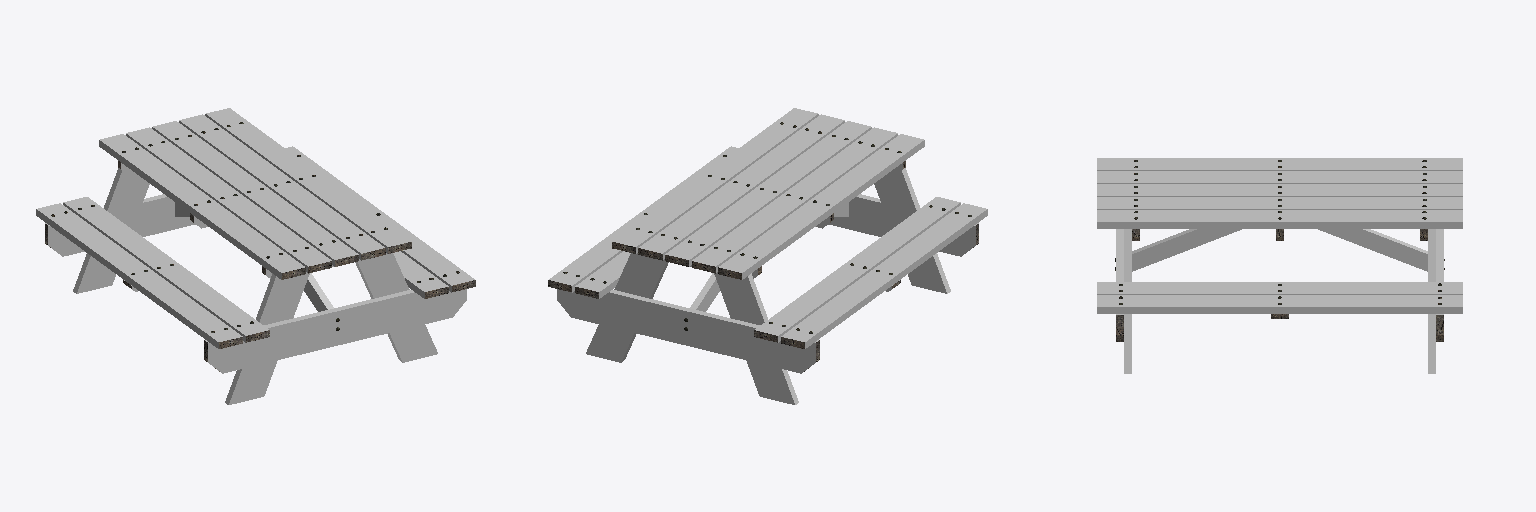
The picture shows the model from 3 angles: view 1: azimuth 30°, elevation 25°; view 2: azimuth 150°, elevation 25°; view 3: azimuth 270°, elevation 25°; orthographic projection.
Visible parts, largest first — view 1: Picnic_Table_picnic_table; view 2: Picnic_Table_picnic_table; view 3: Picnic_Table_picnic_table.
Boxes of the visible parts, x1=… form: Picnic_Table_picnic_table: x1=36, y1=108, x2=475, y2=404; Picnic_Table_picnic_table: x1=548, y1=108, x2=987, y2=404; Picnic_Table_picnic_table: x1=1097, y1=158, x2=1462, y2=373.
Size of the model in its own units: 1.5 by 0.7378 by 1.83.
3 materials, 2 textured.